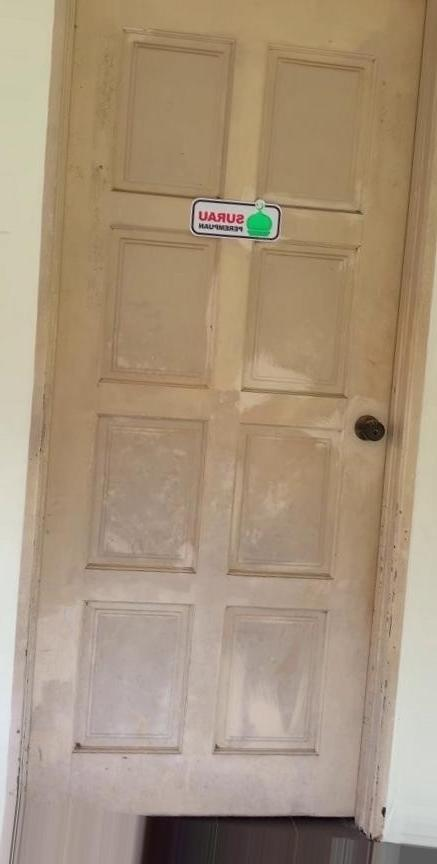door: (17, 23, 437, 864)
